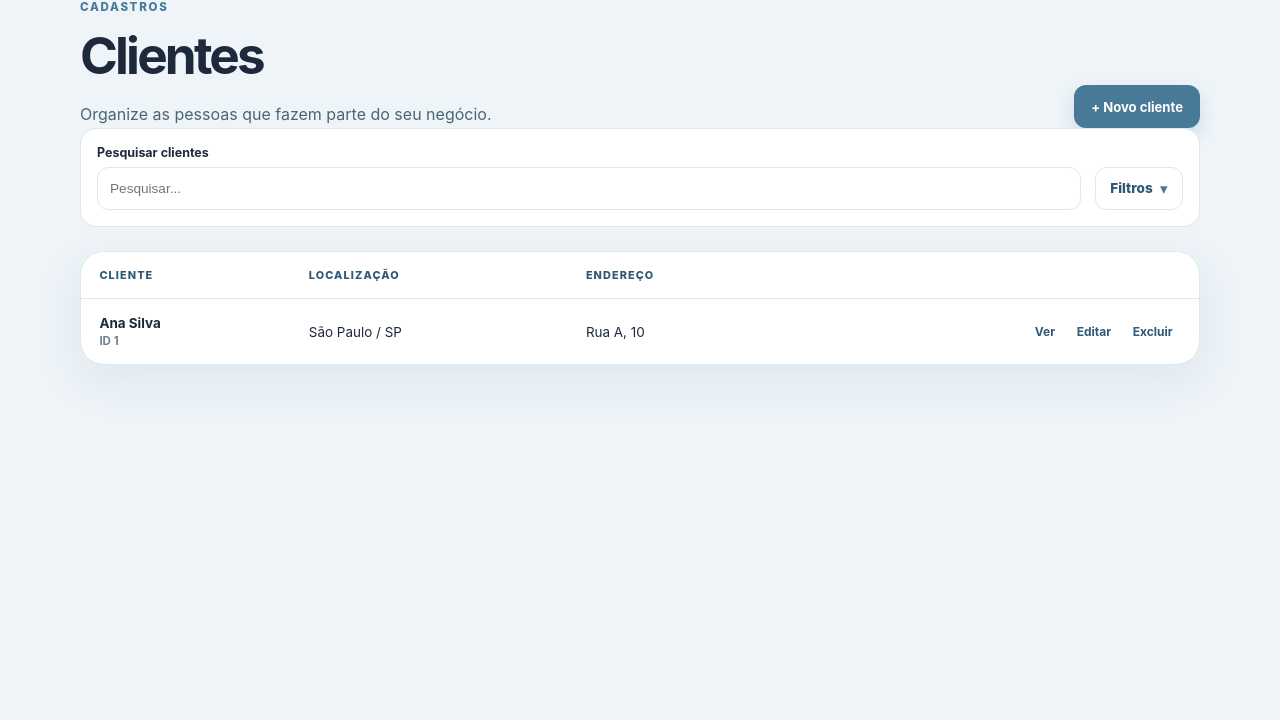
Test: CustomersPage › shows purchased products and consolidated fractional quantity in the detail
Expected: the text "Ana Silva" is shown, [99,315,161,331]
What coordinates should you click on to do the following:
click the button "Ver"
I would click on:
 (1045, 332)
Its box is [1027,318,1063,345].
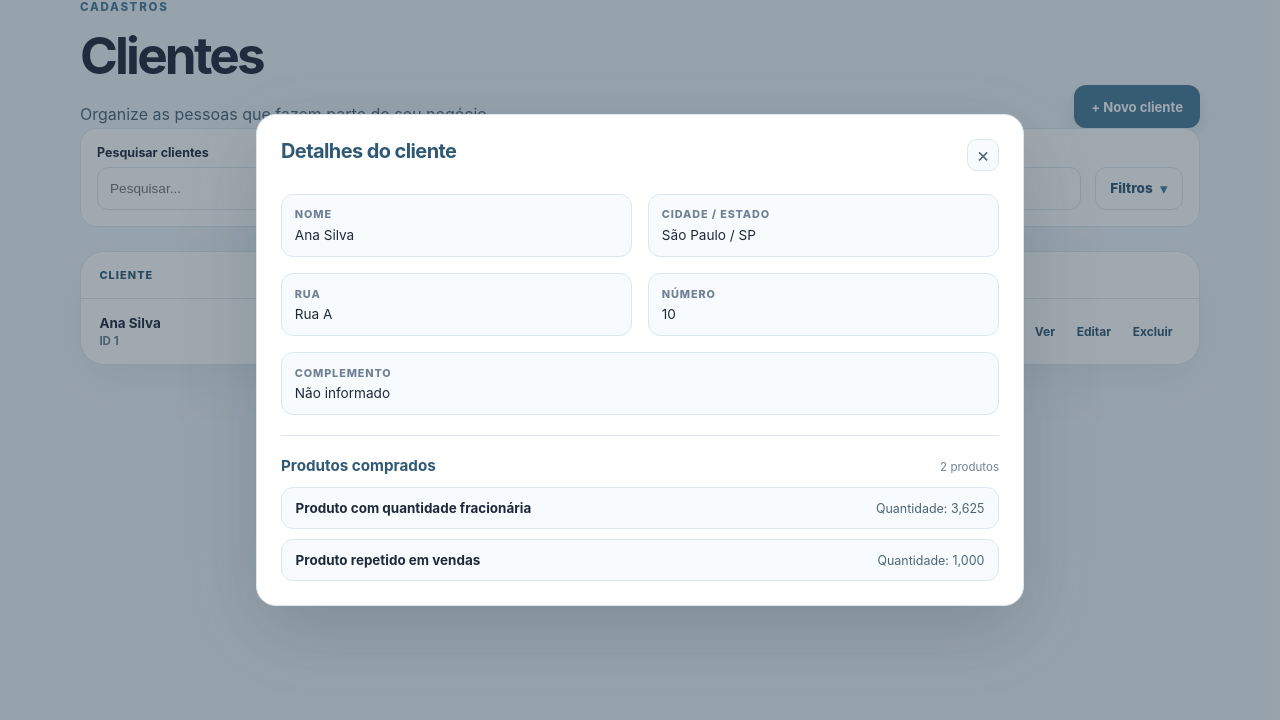
Result: the heading "Produtos comprados" is shown at [281,456,436,475]
Result: the text "Produto com quantidade fracionária" is shown at [296,500,531,516]
Result: the text "Quantidade: 3,625" is shown at [876,501,984,516]
